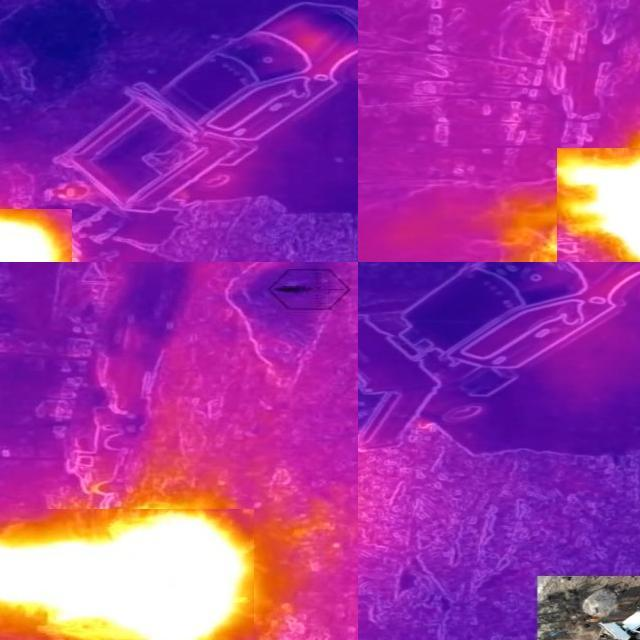fire: (1, 510, 254, 640), (557, 149, 640, 263), (3, 212, 75, 264)
